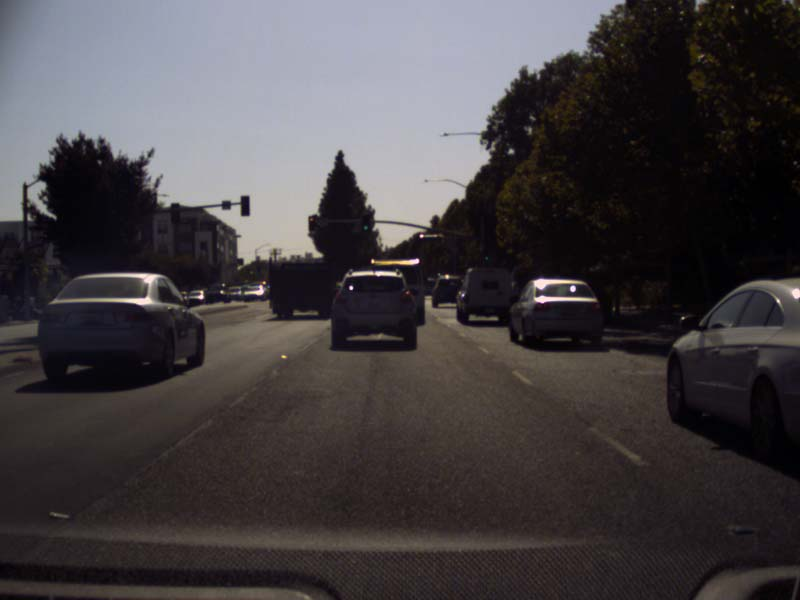Green: (482, 241, 491, 262), (363, 214, 370, 231)
Red: (308, 215, 314, 231)
